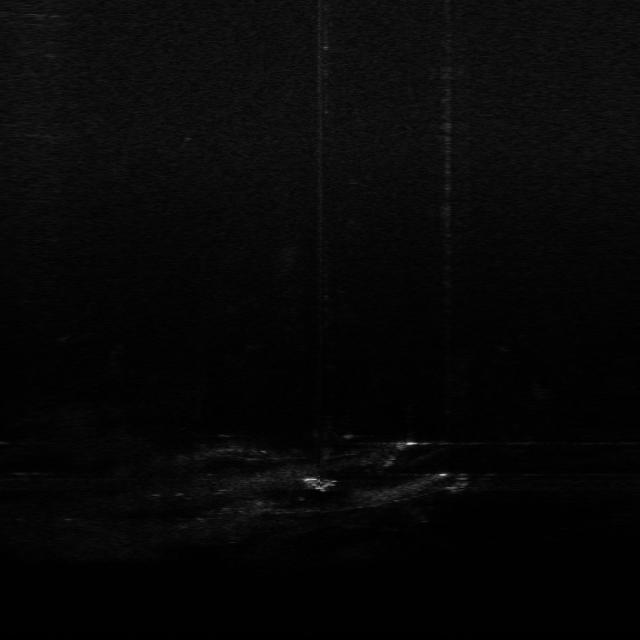rov: (300, 473, 340, 493)
